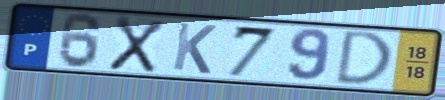6: (57, 11, 102, 70)
7: (226, 24, 280, 78)
9: (286, 27, 333, 85)
D: (332, 28, 395, 87)
K: (170, 20, 220, 77)
X: (105, 14, 168, 75)
